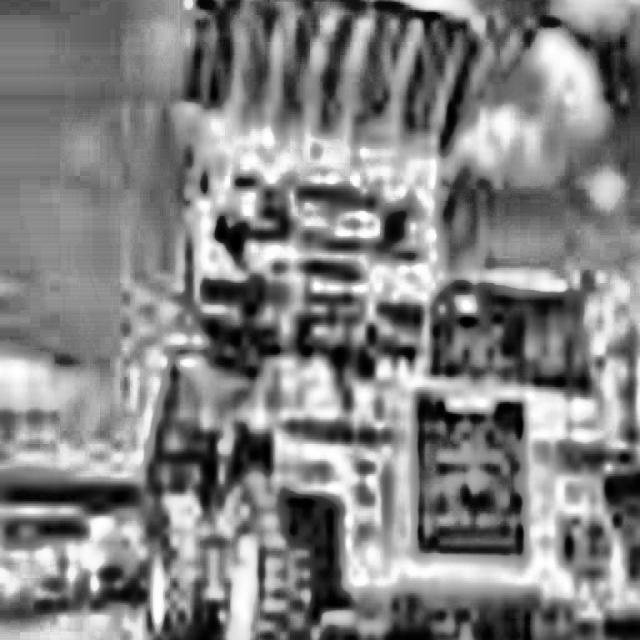dump_truck: (128, 0, 632, 640)
